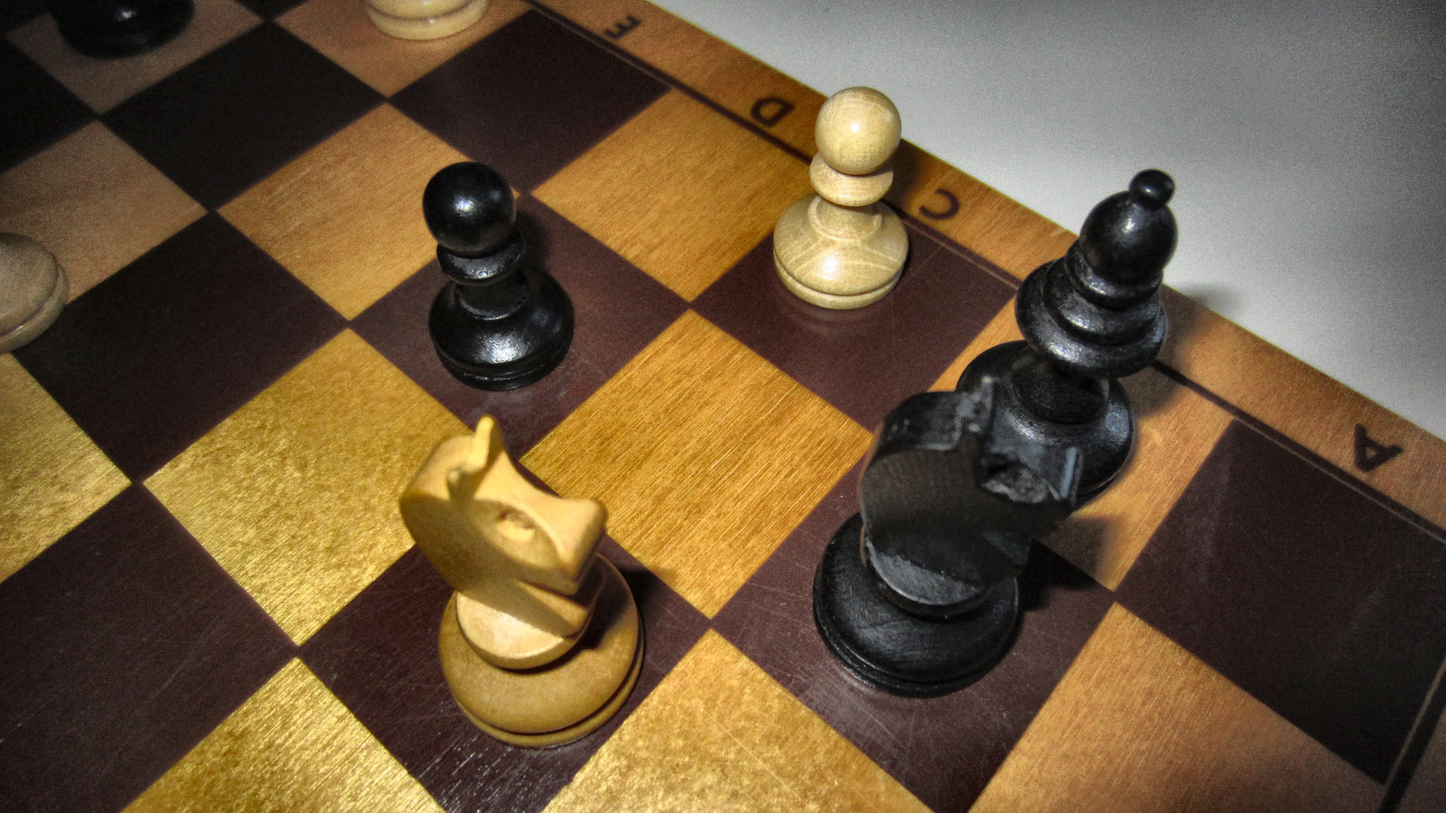black-bishop: (953, 169, 1178, 509)
black-knight: (809, 377, 1083, 698)
black-pawn: (415, 153, 579, 391)
white-knight: (393, 416, 652, 752)
white-pawn: (769, 86, 912, 311)
